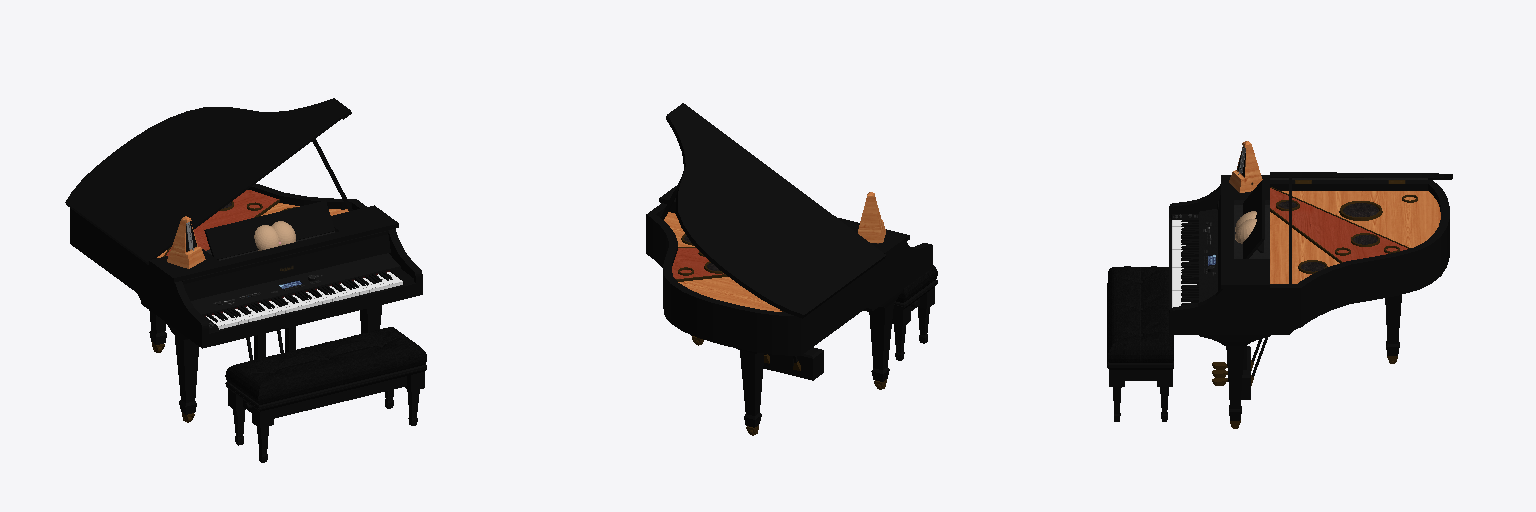
3 renders of one model, left to right at view 1: azimuth 30°, elevation 25°; view 2: azimuth 150°, elevation 25°; view 3: azimuth 270°, elevation 25°, orthographic.
Parts seen in each view (by area): view 1: PIANOBOD PIANOWHOLE PATUNGAN, PATUNGAN CHAIRCUSHION CHAIRWHOLE, PATUNGAN CHAIRWHOLE CHAIRBOD, PATUNGAN METRONOMEBOD METRONOMEWHOLE, butcheek ASS; view 2: PIANOBOD PIANOWHOLE PATUNGAN, PATUNGAN CHAIRWHOLE CHAIRBOD, PATUNGAN METRONOMEBOD METRONOMEWHOLE, PATUNGAN CHAIRCUSHION CHAIRWHOLE; view 3: PIANOBOD PIANOWHOLE PATUNGAN, PATUNGAN CHAIRCUSHION CHAIRWHOLE, PATUNGAN CHAIRWHOLE CHAIRBOD, PATUNGAN METRONOMEBOD METRONOMEWHOLE.
Boxes of the visible parts, box(x1,y1,x2,y2) form: PIANOBOD PIANOWHOLE PATUNGAN: box(65, 98, 422, 421); PATUNGAN CHAIRCUSHION CHAIRWHOLE: box(225, 327, 426, 404); PATUNGAN CHAIRWHOLE CHAIRBOD: box(225, 364, 426, 462); PATUNGAN METRONOMEBOD METRONOMEWHOLE: box(167, 216, 205, 268); butcheek ASS: box(254, 221, 295, 250); PIANOBOD PIANOWHOLE PATUNGAN: box(646, 103, 932, 434); PATUNGAN CHAIRWHOLE CHAIRBOD: box(863, 280, 937, 360); PATUNGAN METRONOMEBOD METRONOMEWHOLE: box(858, 192, 885, 243); PATUNGAN CHAIRCUSHION CHAIRWHOLE: box(896, 265, 937, 302); PIANOBOD PIANOWHOLE PATUNGAN: box(1169, 172, 1452, 428); PATUNGAN CHAIRCUSHION CHAIRWHOLE: box(1108, 266, 1173, 362); PATUNGAN CHAIRWHOLE CHAIRBOD: box(1107, 283, 1173, 421); PATUNGAN METRONOMEBOD METRONOMEWHOLE: box(1229, 141, 1262, 192).
Bounding box in the file's own units: 21.62 × 23.25 × 28.49.
3 materials, 1 textured.